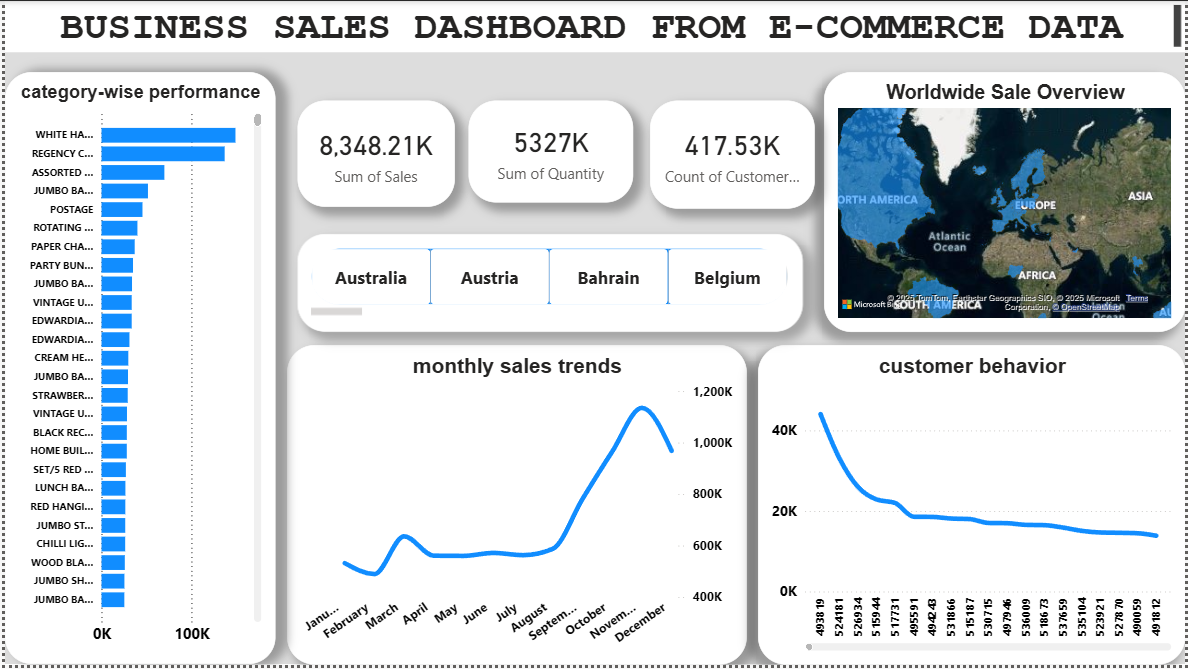

Layout of this report page (visuals, bound fields, positions):
{"tool":"powerbi","page":{"name":"Page 1","canvas":[1280,720],"ordinal":0},"visuals":[{"type":"lineChart","title":"monthly sales trends","fields":{"Category":["Sheet1.InvoiceDate.Variation.Date Hierarchy.Month"],"Y2":["Sum(Sheet1.Sales)"]},"box":[305,373.3,498.3,346.7],"z":0},{"type":"barChart","title":"category-wise performance","fields":{"Category":["Sheet1.Description"],"Y":["Sum(Sheet1.Sales)"]},"box":[0,78.3,293.3,641.7],"z":1000},{"type":"filledMap","title":"Worldwide Sale Overview","fields":{"Category":["Sheet1.Country"]},"box":[888.3,78.3,391.7,281.7],"z":2000},{"type":"lineChart","title":"customer behavior","fields":{"Category":["Sheet1.Invoice"],"Y":["Sum(Sheet1.Sales)"]},"box":[816.7,373.3,463.3,346.7],"z":3000},{"type":"textbox","box":[0,0,1280,56.7],"z":4000},{"type":"card","fields":{"Values":["Sum(Sheet1.Sales)"]},"box":[317.2,109,170.8,115.5],"z":5000},{"type":"card","fields":{"Values":["Sum(Sheet1.Quantity)"]},"box":[502.6,109,178.9,110.6],"z":6000},{"type":"card","fields":{"Values":["CountNonNull(Sheet1.Customer ID)"]},"box":[699.4,109,178.9,117.1],"z":7000},{"type":"advancedSlicerVisual","fields":{"Values":["Sheet1.Country"]},"box":[317.2,253.7,548.1,105.7],"z":7001}]}

Visuals, with their boxes in screenshot pixels (x1, y1, x2, y2), scaled from the page's 1280x720 canvas onto the 1188x669 screenshot:
"monthly sales trends" lineChart: bbox=(283, 347, 746, 668)
"category-wise performance" barChart: bbox=(0, 73, 272, 668)
"Worldwide Sale Overview" filledMap: bbox=(824, 73, 1187, 334)
"customer behavior" lineChart: bbox=(758, 347, 1187, 668)
textbox: bbox=(0, 0, 1187, 53)
card - Sum(Sheet1.Sales): bbox=(294, 101, 453, 209)
card - Sum(Sheet1.Quantity): bbox=(466, 101, 633, 204)
card - CountNonNull(Sheet1.Customer ID): bbox=(649, 101, 815, 210)
advancedSlicerVisual - Sheet1.Country: bbox=(294, 236, 803, 334)
